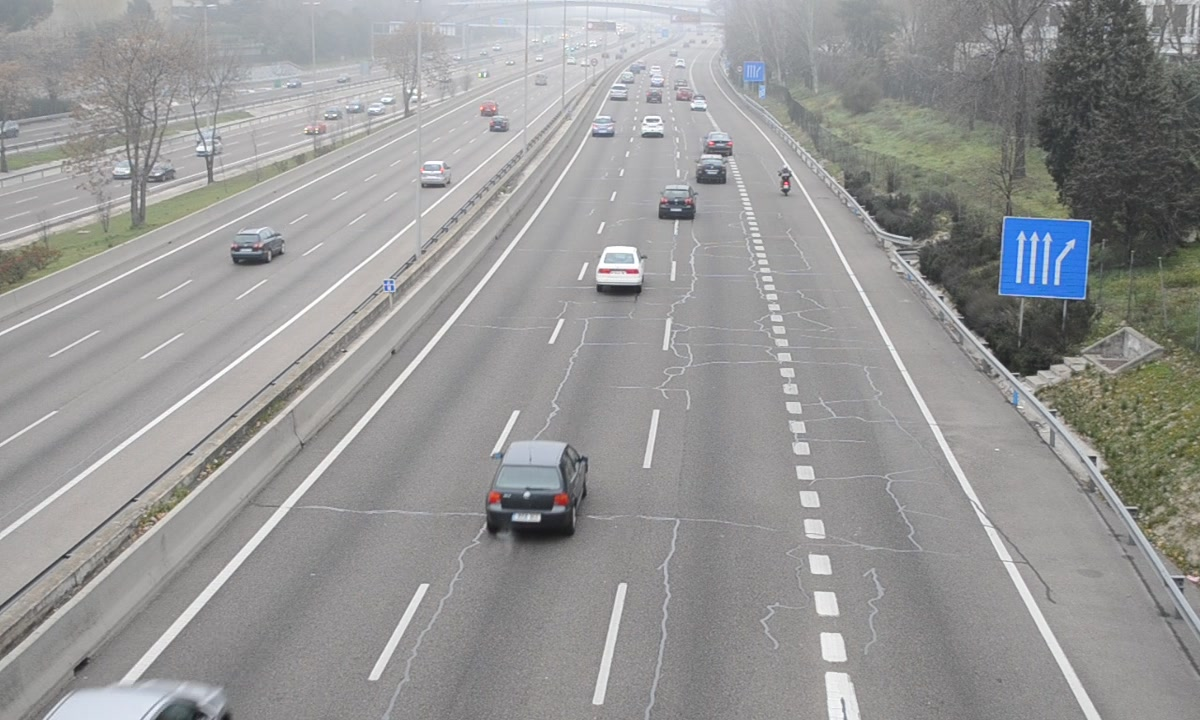car: (487, 441, 589, 531), (596, 246, 643, 289), (659, 185, 698, 221), (696, 154, 728, 186), (704, 130, 735, 155), (639, 114, 666, 138), (590, 114, 616, 137)
motorcycle: (777, 165, 794, 199)
